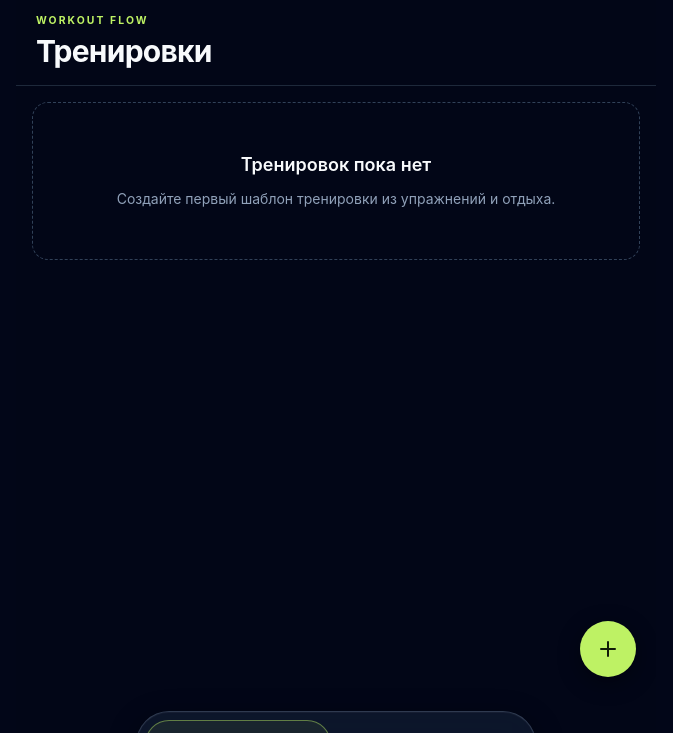
Test case: workout template creation › keeps the form open and reports a save error
This screenshot has width=673, height=733.
Expected: the heading "Тренировок пока нет" is shown, [241,154,431,175]
Step 1. Click the button named "Создать тренировку" → click(608, 649), box [580,621,636,677]
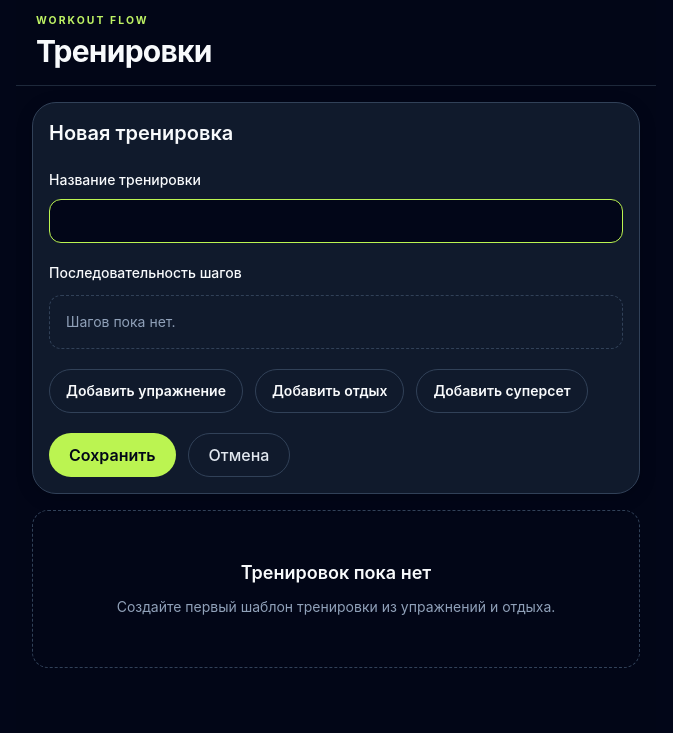
Step 2. Type "Круговая" into the field labelled "Название тренировки" → (336, 221), box [49,199,623,243]
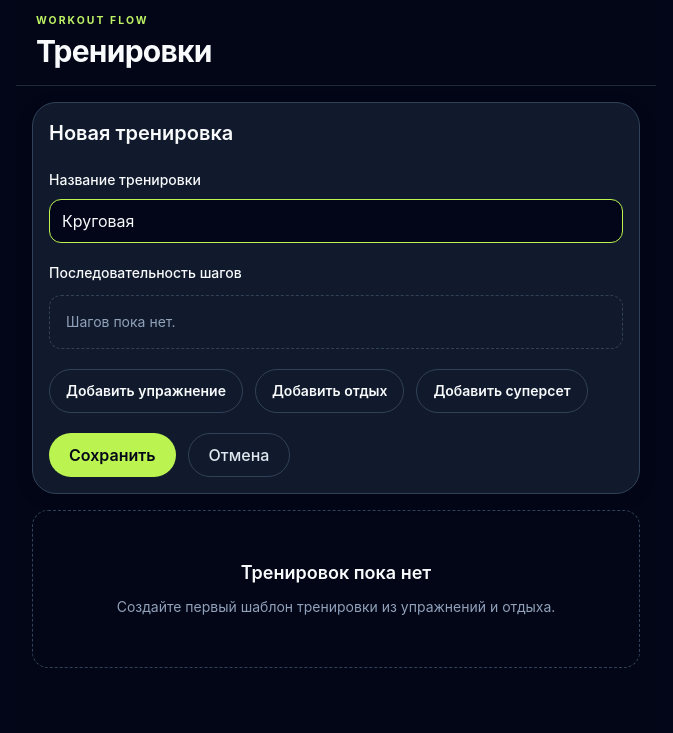
Step 3. Click the button "Добавить упражнение" → click(146, 391), box [49,369,243,413]
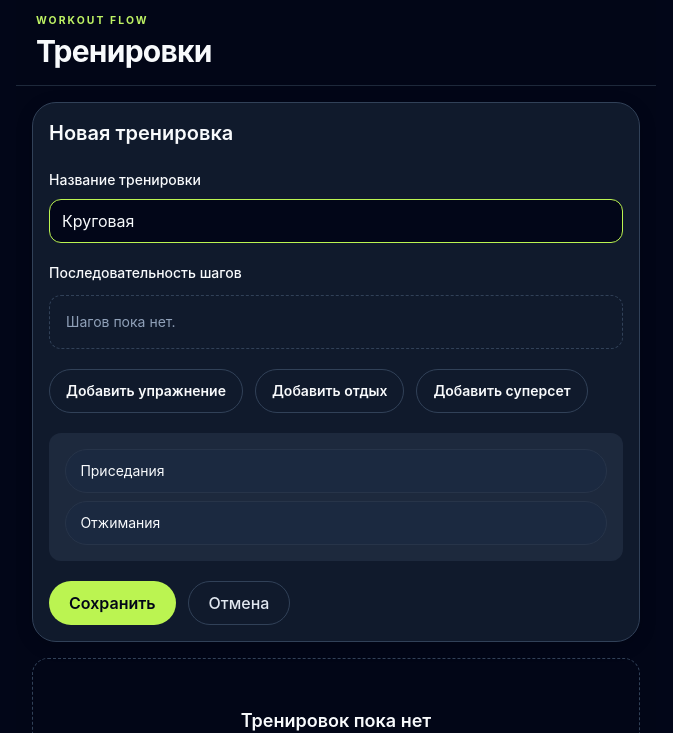
Step 4. Click the button "Приседания" → click(122, 470), box [65,449,607,493]
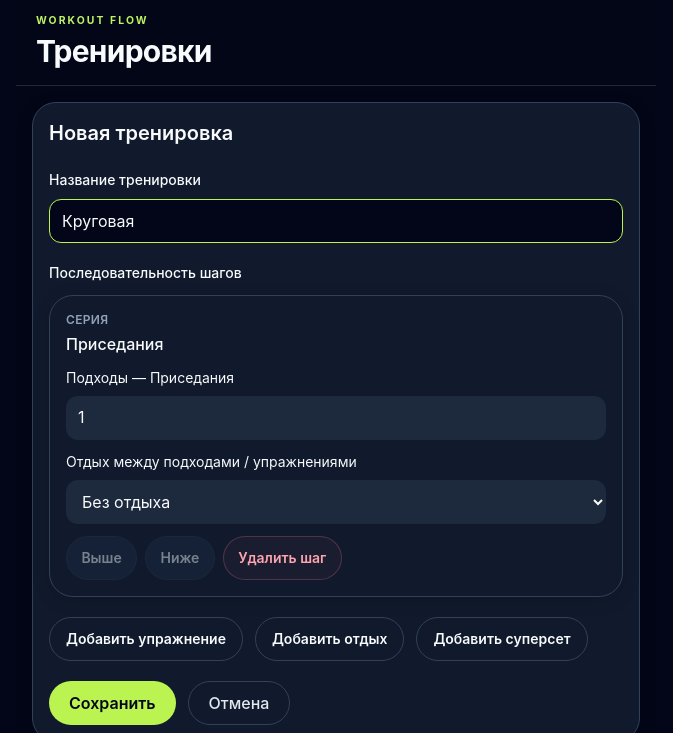
Step 5. Click the button "Сохранить" → click(112, 703), box [49,681,176,725]
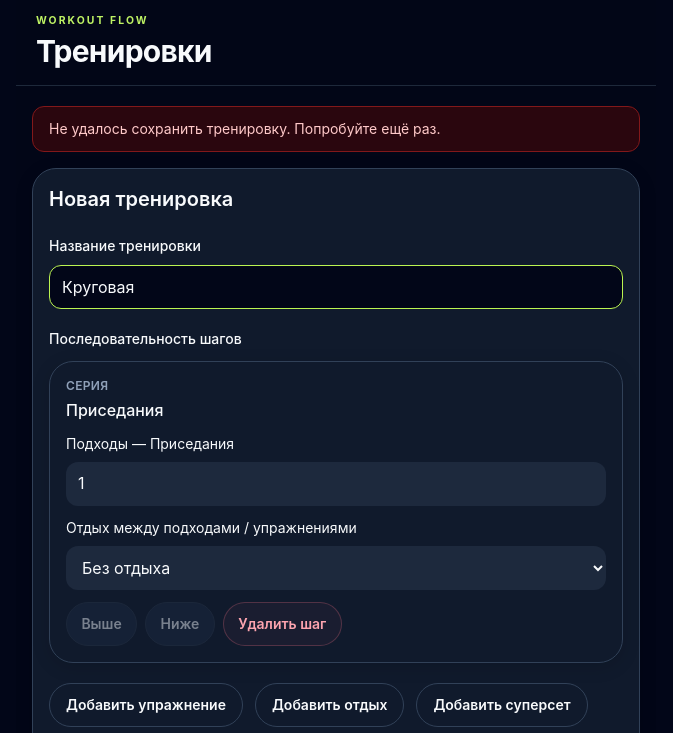
Result: the heading "Новая тренировка" is shown at [49,187,233,211]
Result: the message reads "Не удалось сохранить тренировку. Попробуйте ещё раз." at [49,120,440,137]
